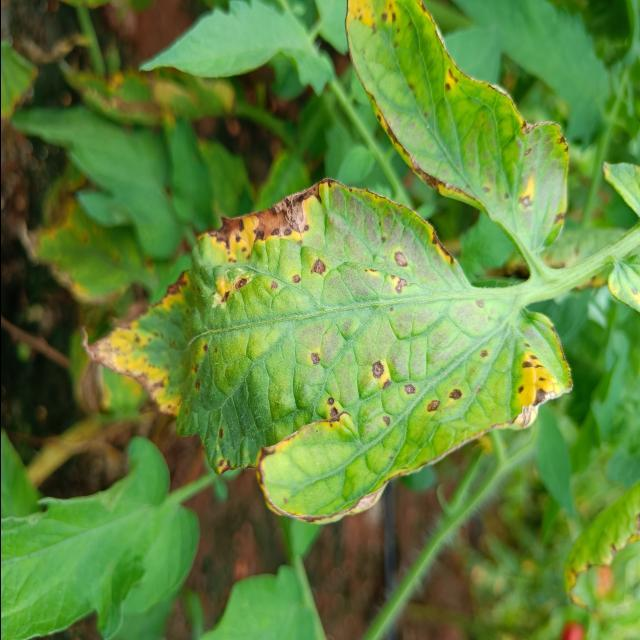Tomato mosaic virus leaf: (73, 168, 576, 534), (335, 0, 573, 250)
